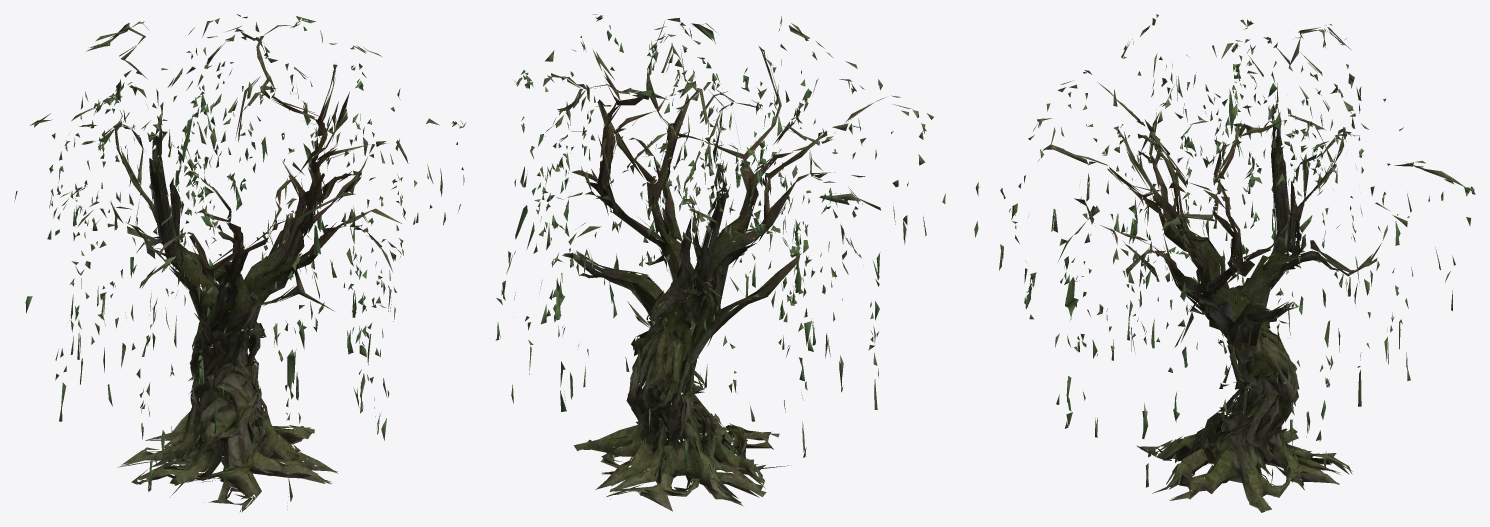
The model's file is salgueiro_brejo_adulta.glb.
3 renders of one model, left to right at view 1: azimuth 30°, elevation 25°; view 2: azimuth 150°, elevation 25°; view 3: azimuth 270°, elevation 25°, orthographic. The views are drawn at different scales.
Visible parts, largest first — view 1: geometry_0; view 2: geometry_0; view 3: geometry_0.
Boxes of the visible parts, box(x1,y1,x2,y2) form: geometry_0: box(14, 14, 465, 512); geometry_0: box(495, 14, 945, 511); geometry_0: box(974, 14, 1475, 512).
Bounding box in the file's own units: 0.8407 × 0.958 × 0.9827.
Materials: 1 (1 with a texture image).
